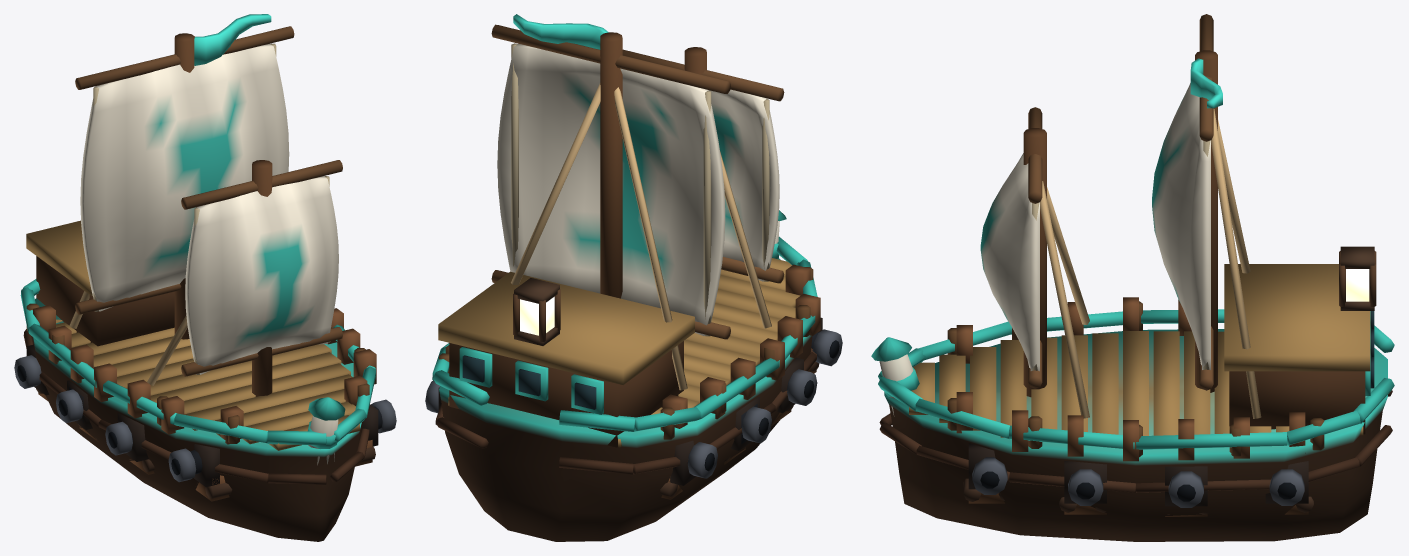
The model's file is barco-guerra.glb.
The picture shows the model from 3 angles, left to right: view 1: azimuth 30°, elevation 25°; view 2: azimuth 150°, elevation 25°; view 3: azimuth 270°, elevation 25°; orthographic projection. The views are drawn at different scales.
Parts seen in each view (by area): view 1: Sails, Hull, Cannons, Flag; view 2: Hull, Sails, Cannons, Lantern, Flag; view 3: Hull, Sails, Cannons, Lantern, Flag.
Part boxes in pixels (x1=…): Sails: x1=75, y1=26, x2=342, y2=376; Hull: x1=20, y1=33, x2=378, y2=541; Cannons: x1=14, y1=355, x2=396, y2=501; Flag: x1=194, y1=14, x2=271, y2=65; Hull: x1=432, y1=32, x2=822, y2=541; Sails: x1=491, y1=24, x2=784, y2=339; Cannons: x1=425, y1=329, x2=842, y2=499; Lantern: x1=513, y1=278, x2=560, y2=345; Flag: x1=513, y1=14, x2=608, y2=49; Hull: x1=871, y1=50, x2=1394, y2=541; Sails: x1=980, y1=14, x2=1213, y2=390; Cannons: x1=963, y1=457, x2=1313, y2=516; Lantern: x1=1339, y1=246, x2=1376, y2=310; Flag: x1=1190, y1=58, x2=1222, y2=108.
Bounding box in the file's own units: 0.6393 × 0.9426 × 1.
